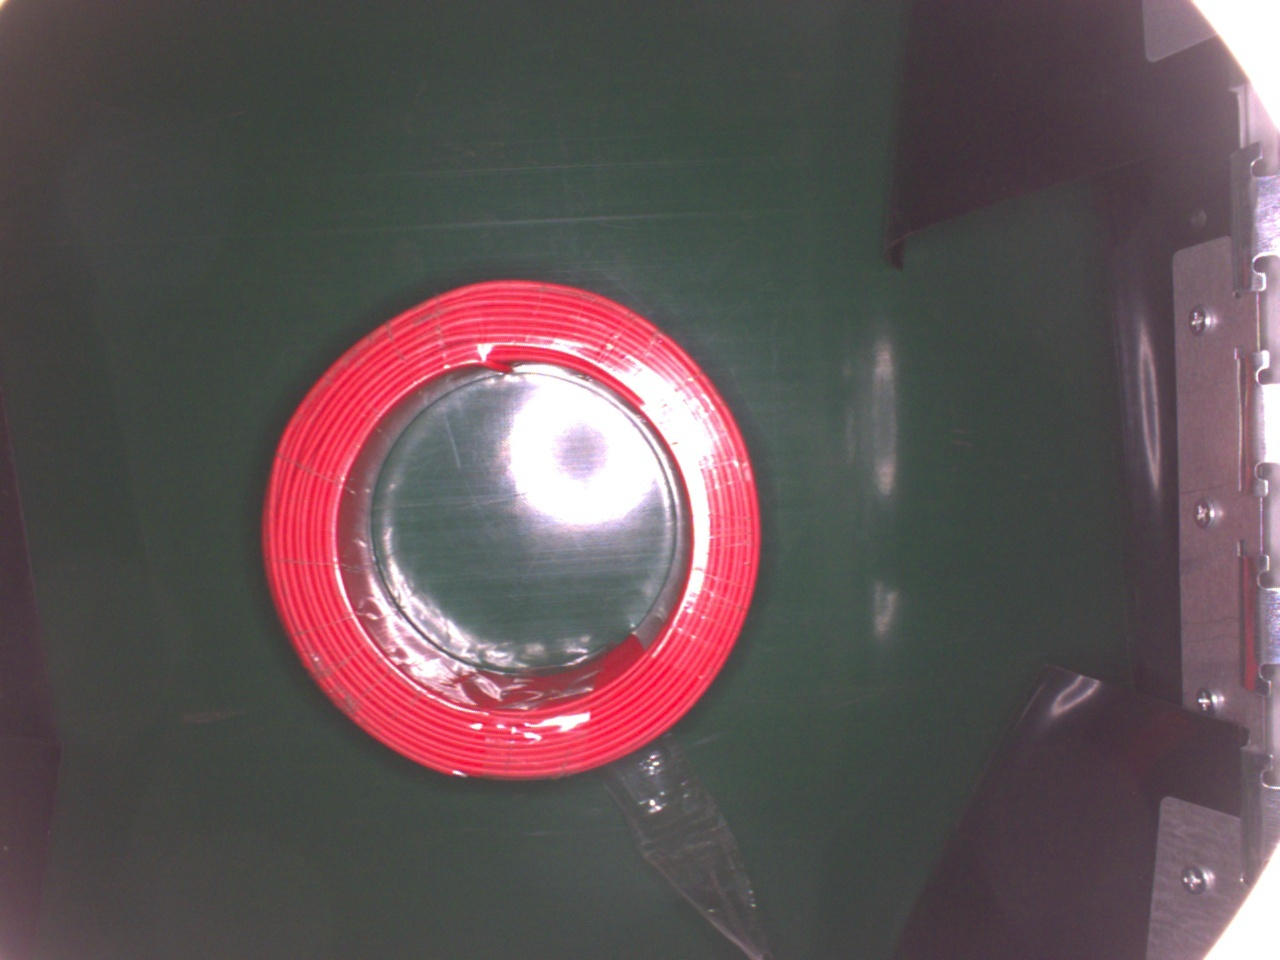red: (259, 277, 770, 789)
